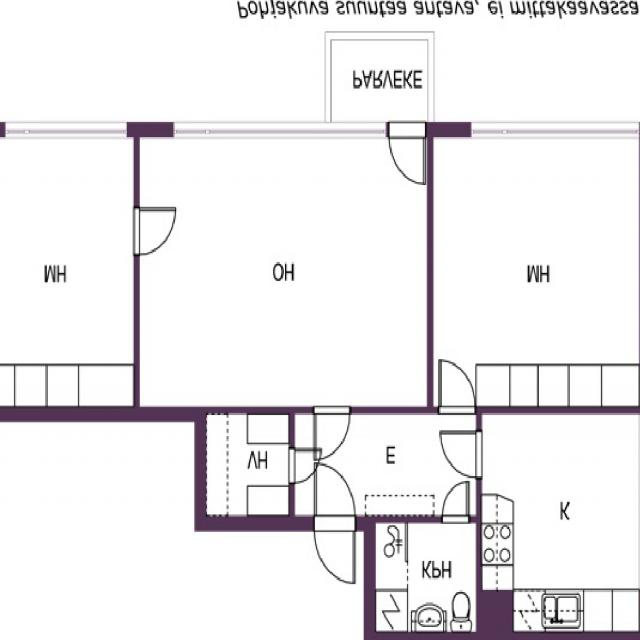door: (316, 515, 354, 580), (316, 465, 354, 529), (388, 122, 424, 183), (442, 432, 482, 477), (135, 208, 175, 253), (316, 406, 350, 458), (441, 363, 475, 413), (442, 482, 468, 522), (289, 450, 320, 482)
